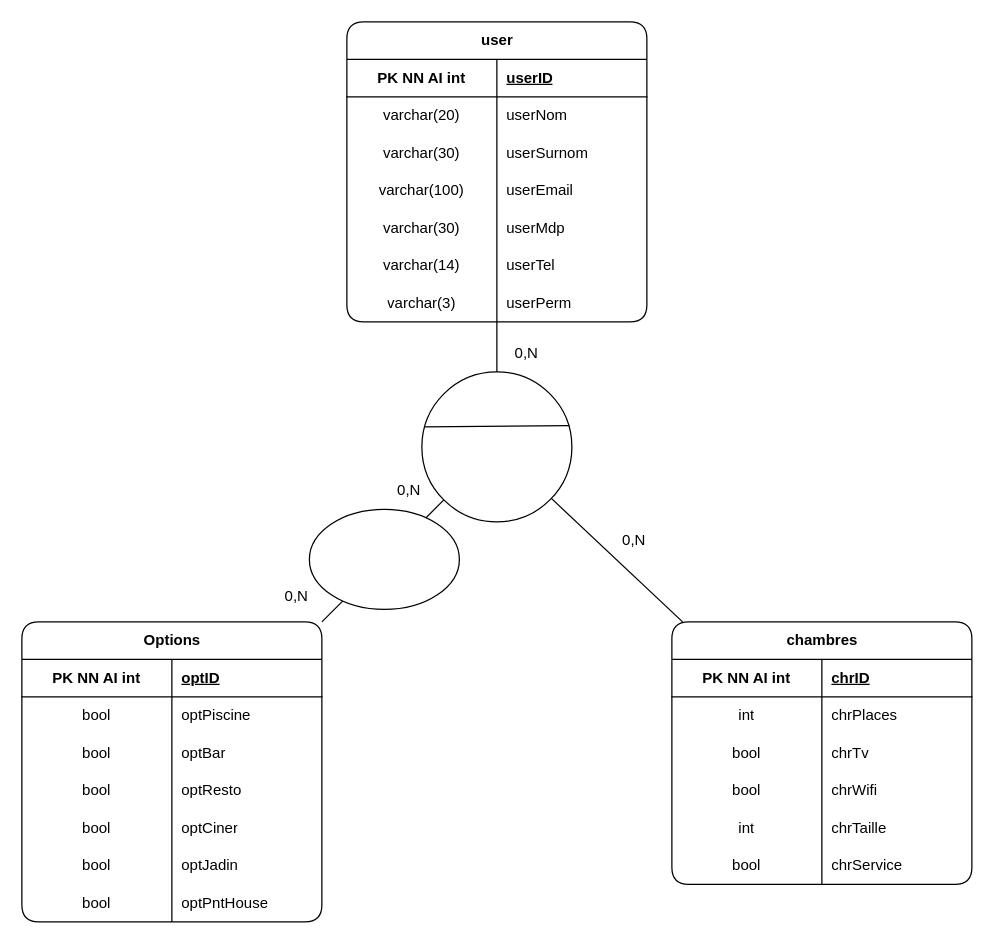
Some shapes in this 994 by 944 pixel diagram are drawn without their labels. Each missing label, with the centre of its shape:
choisis: [383,558]
reserve resDateDeb resDateFin: [496,446]
